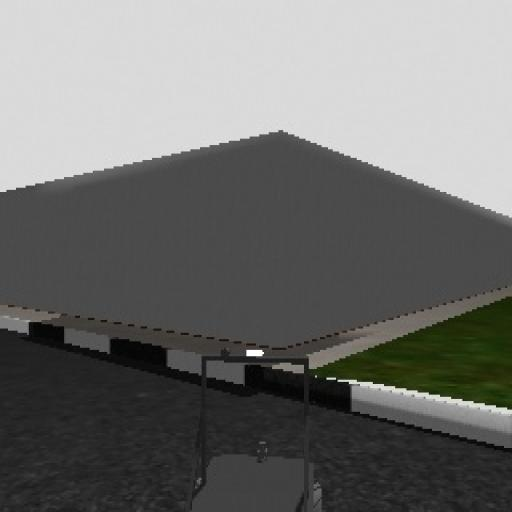huskya200: (180, 347, 325, 512)
